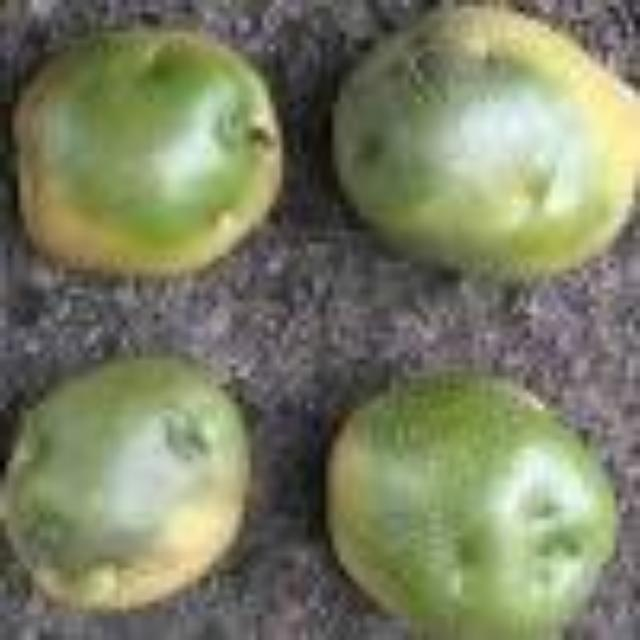Defected potato: (316, 338, 630, 640), (324, 0, 638, 300), (6, 11, 292, 295), (3, 342, 264, 624)
